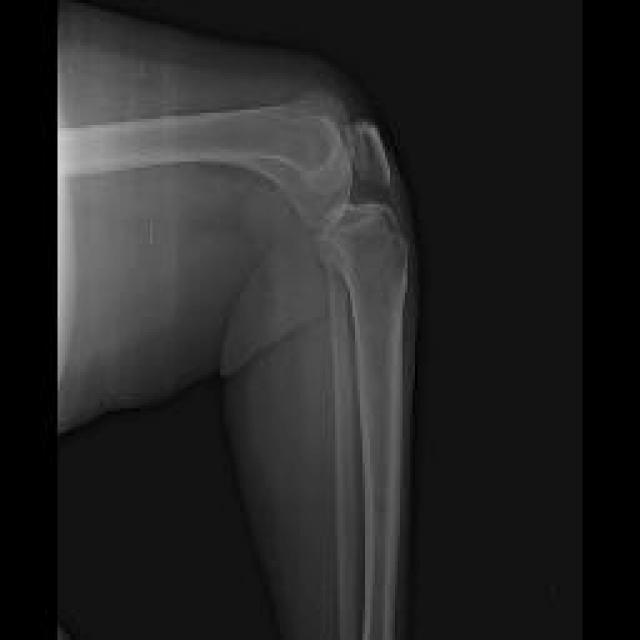normal: (58, 90, 390, 227), (313, 209, 409, 638), (311, 239, 355, 640)
